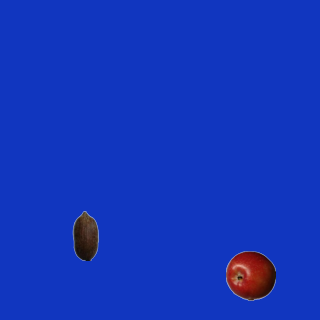Apple Braeburn: (225, 250, 275, 300)
Nut Pecan: (60, 210, 110, 260)
